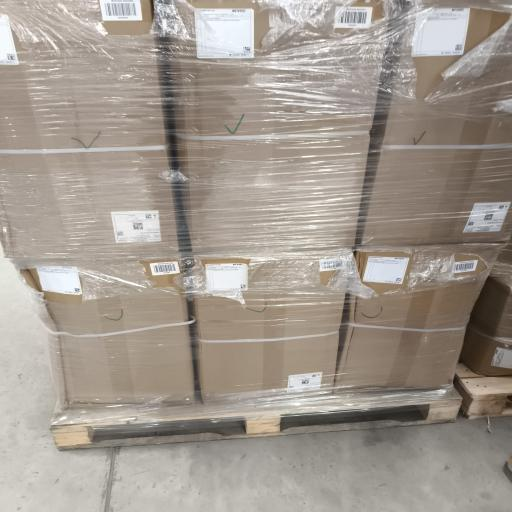pallet: (51, 389, 461, 449), (455, 364, 511, 418)
